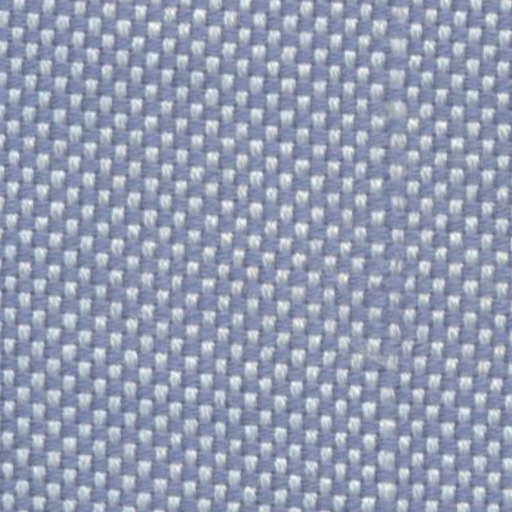TuoSha: (352, 14, 450, 502)
